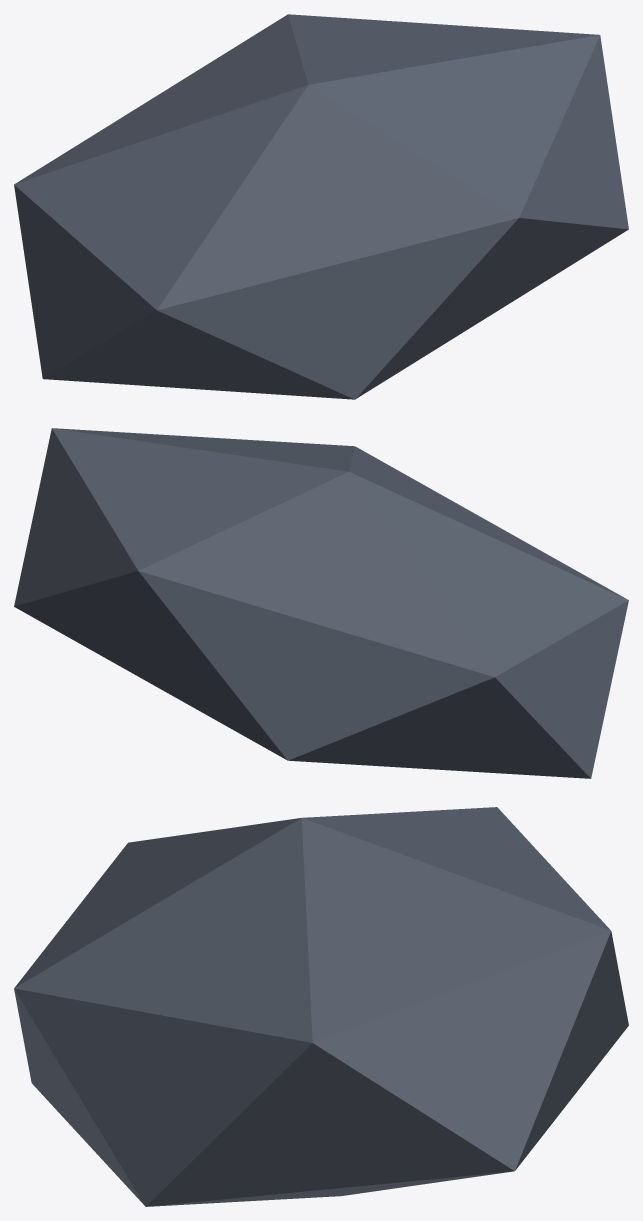
Rendered from EXTG_MainWestStone_00.glb.
3 views of the same model, one above another, from view 1: azimuth 30°, elevation 25°; view 2: azimuth 150°, elevation 25°; view 3: azimuth 270°, elevation 25° (orthographic). The views are drawn at different scales.
Parts seen in each view (by area): view 1: EXTG_MainWestStone_00; view 2: EXTG_MainWestStone_00; view 3: EXTG_MainWestStone_00.
Boxes of the visible parts, x1,y1,x2,y2 form: EXTG_MainWestStone_00: (14, 14, 628, 399); EXTG_MainWestStone_00: (14, 428, 628, 778); EXTG_MainWestStone_00: (14, 807, 628, 1206).
Size of the model in its own units: 1.2 by 0.5501 by 0.8714.
